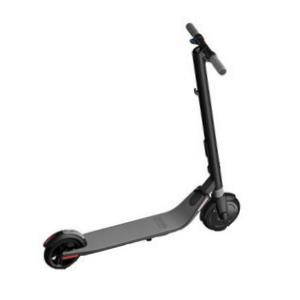scooter: (43, 24, 240, 272)
